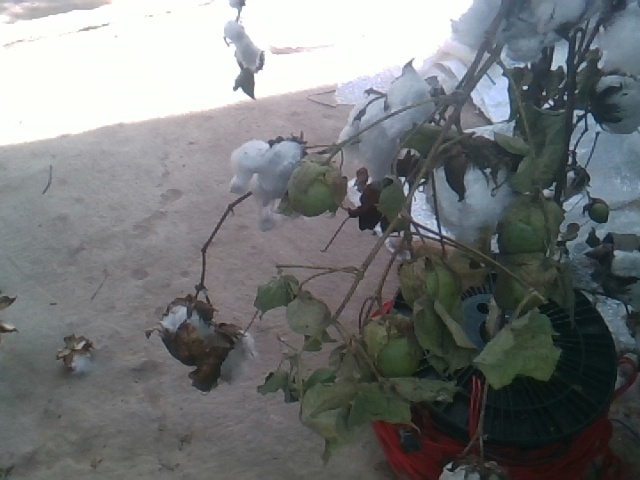cotton: (425, 158, 509, 243), (336, 91, 391, 180), (228, 137, 301, 201), (377, 69, 434, 133), (595, 74, 640, 132), (225, 20, 262, 71)
